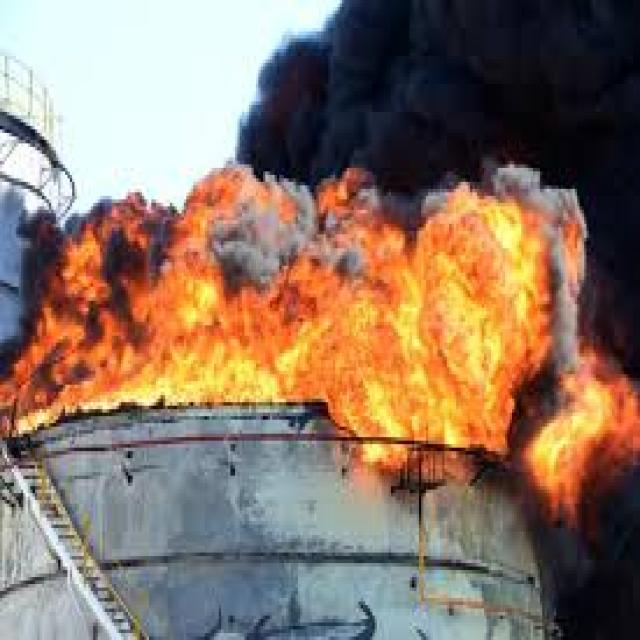explosion: (0, 1, 640, 544)
